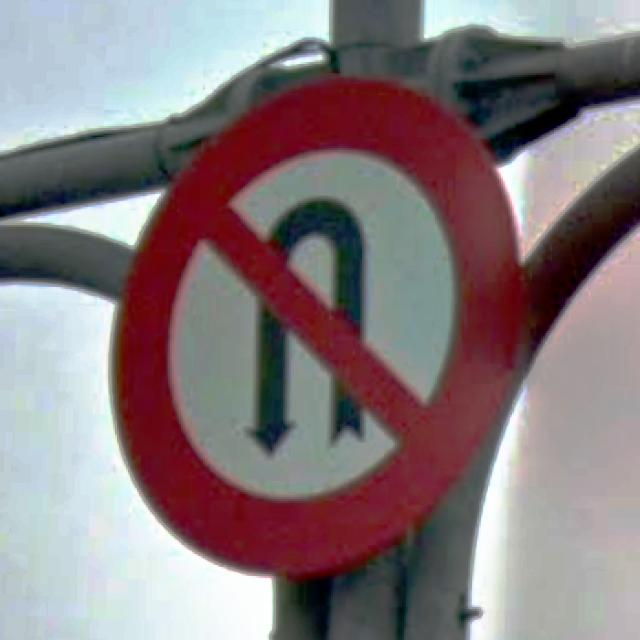nouturn: (115, 77, 521, 576)
